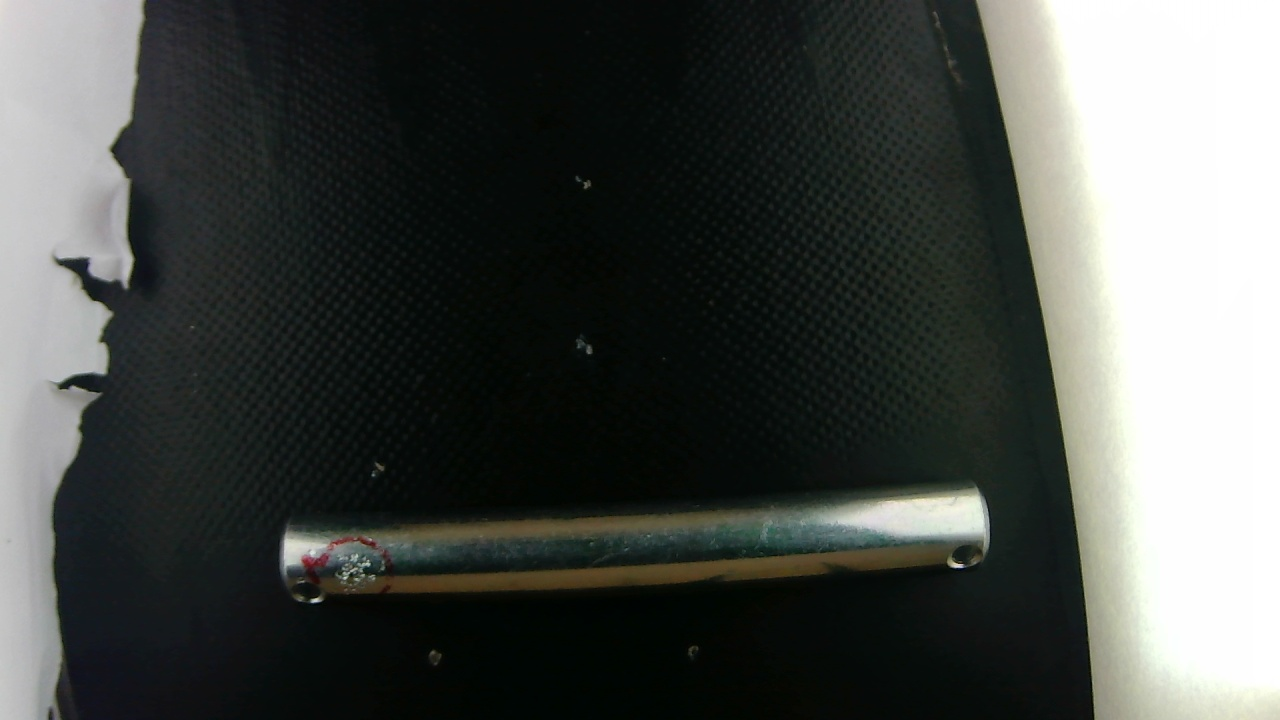pitmark_pin: (328, 544, 386, 595)
